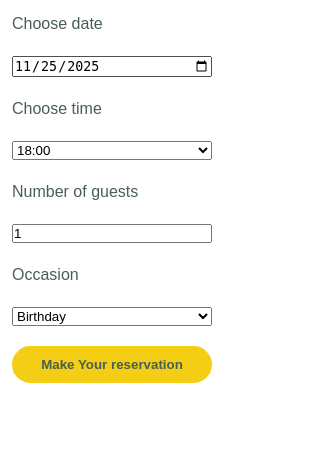
BookingForm › shows error message for invalid date
Type "2000-01-01" into the date field labelled "Choose date".
click(112, 67); type("2000-01-01")  # box [12,56,212,77]
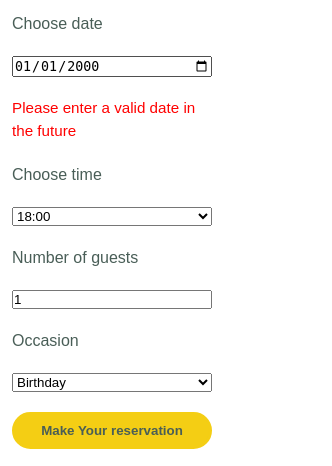
Now the text "Please enter a valid date in the future" is shown, box [12,97,212,143]
